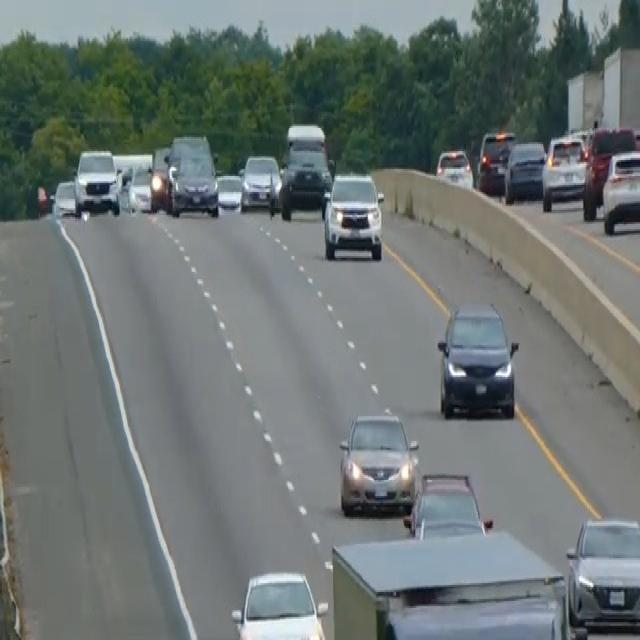car: (565, 514, 639, 638), (337, 407, 419, 516), (230, 567, 328, 638), (403, 469, 491, 539), (582, 124, 638, 218), (165, 133, 219, 217), (541, 132, 588, 212), (601, 146, 639, 234), (74, 146, 120, 215), (503, 137, 546, 204), (476, 128, 515, 194), (240, 151, 281, 213), (435, 146, 473, 188), (148, 144, 171, 210), (126, 162, 154, 213), (215, 170, 243, 212), (51, 178, 79, 218)
jeep: (321, 167, 385, 261)
minivan: (434, 295, 521, 421)
truck: (330, 524, 573, 638)
